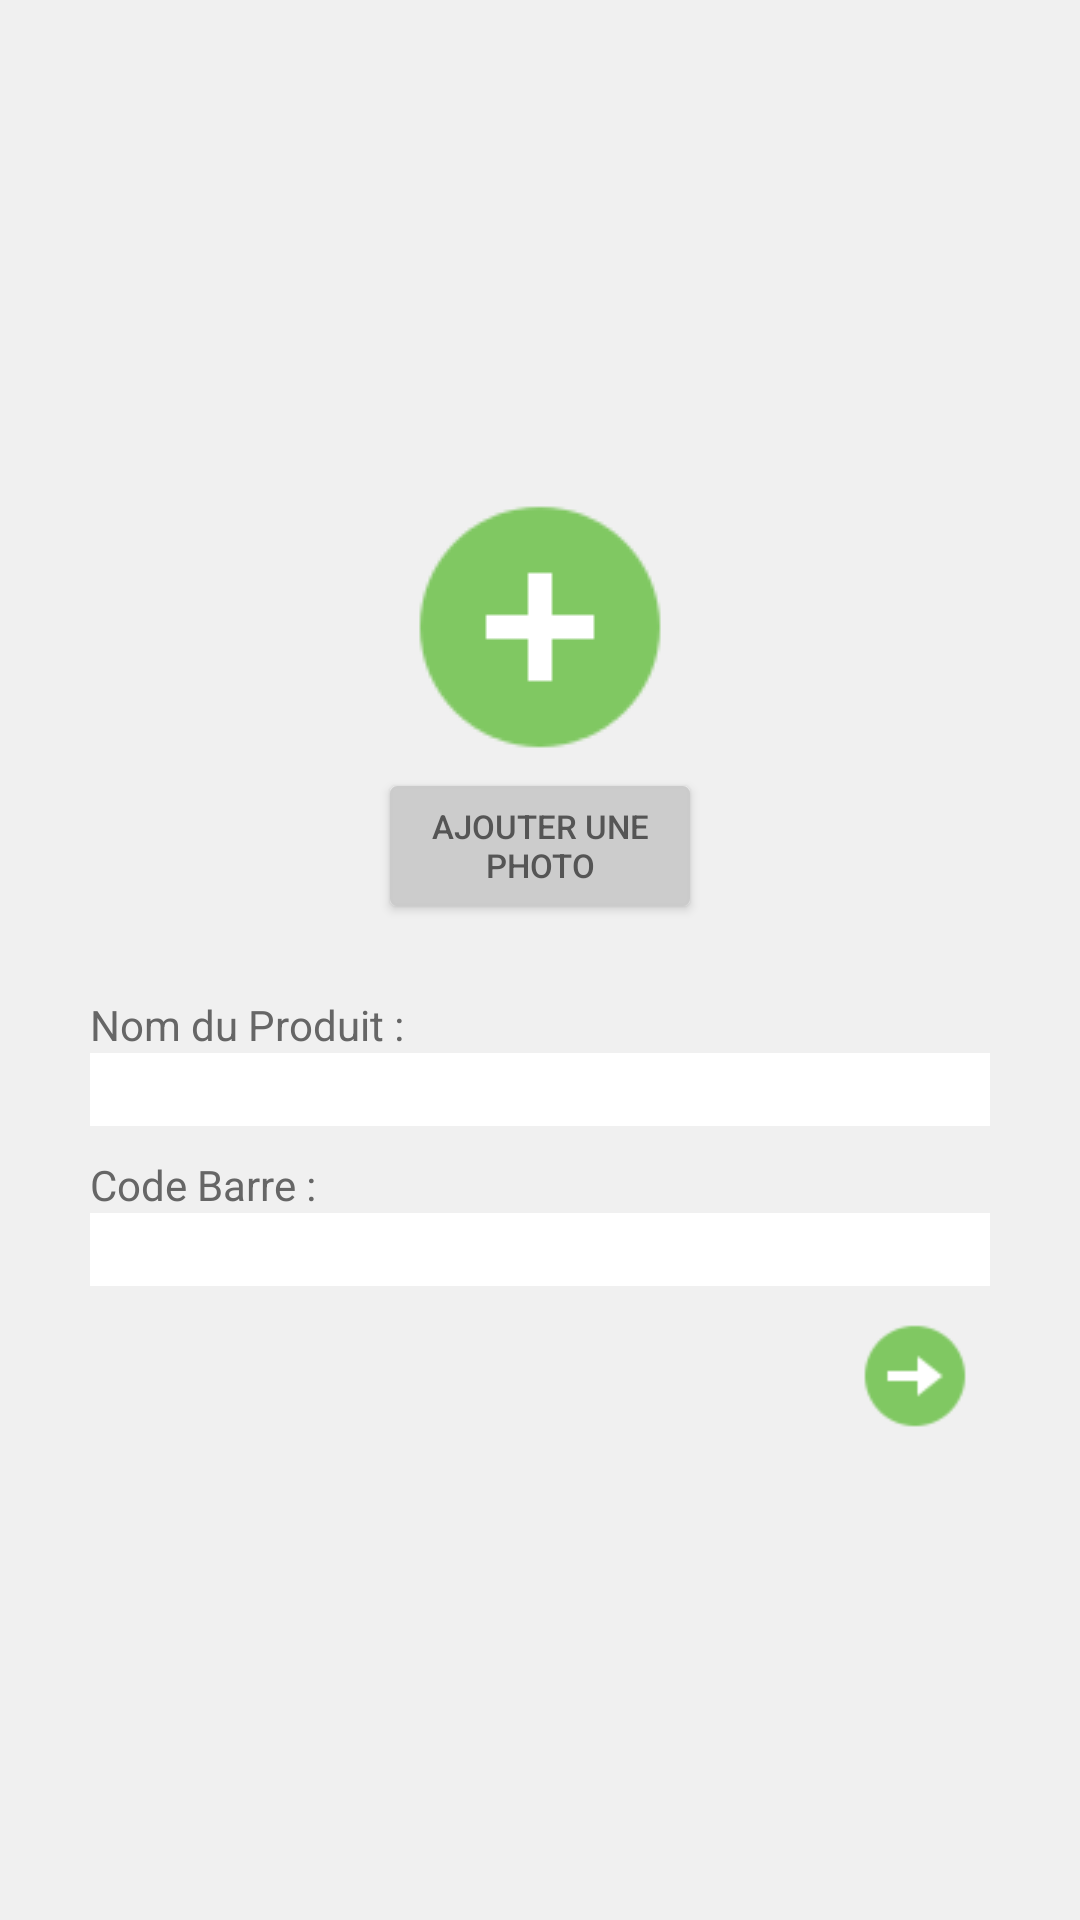

Icon click points for this 1080px×1920px phone screenshot, format (x,y):
add: (540,627)
